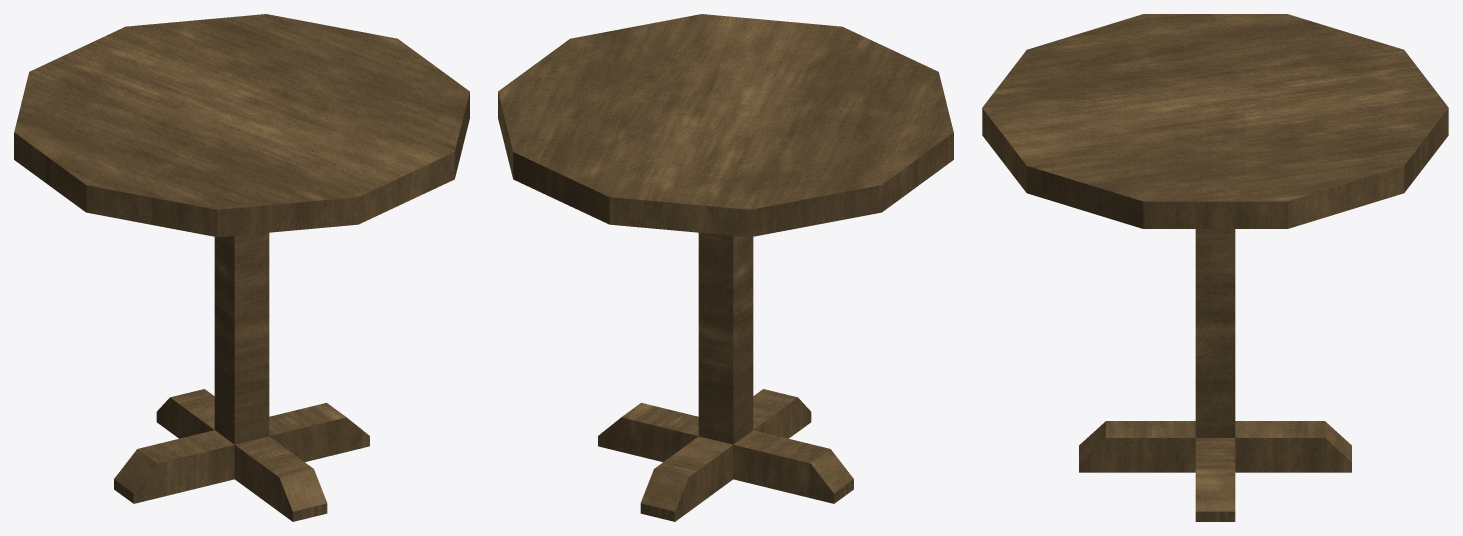
Rendered from table_rond.fbx.
3 views of the same model, side by side, from view 1: azimuth 30°, elevation 25°; view 2: azimuth 150°, elevation 25°; view 3: azimuth 270°, elevation 25° (orthographic).
Parts seen in each view (by area): view 1: table; view 2: table; view 3: table.
Boxes of the visible parts, <box> form: table: <box>14,14,469,521</box>; table: <box>498,14,953,521</box>; table: <box>982,14,1448,521</box>.
Size of the model in its own units: 112 by 98.83 by 117.
